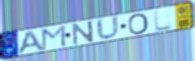A: (16, 29, 47, 56)
L: (153, 9, 174, 33)
M: (41, 24, 68, 51)
N: (71, 20, 95, 47)
O: (127, 12, 150, 36)
U: (95, 15, 121, 41)
